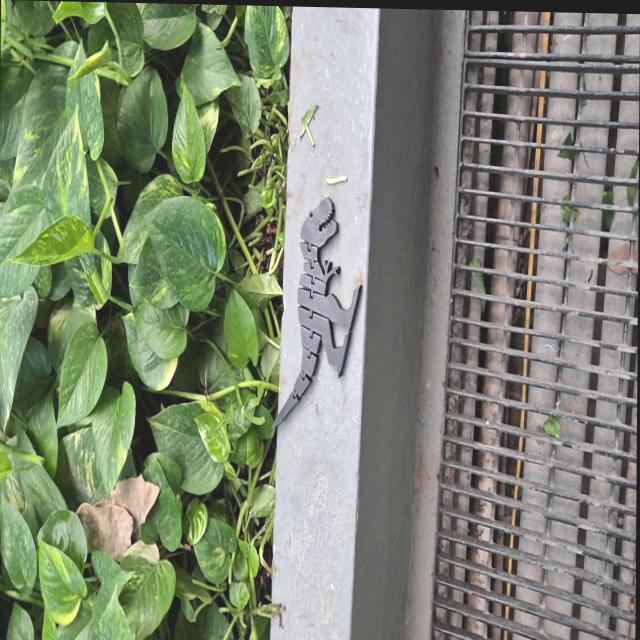dino: (269, 194, 363, 432)
